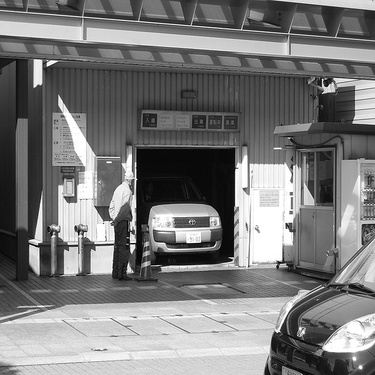car: (258, 219, 375, 368), (125, 161, 240, 264)
